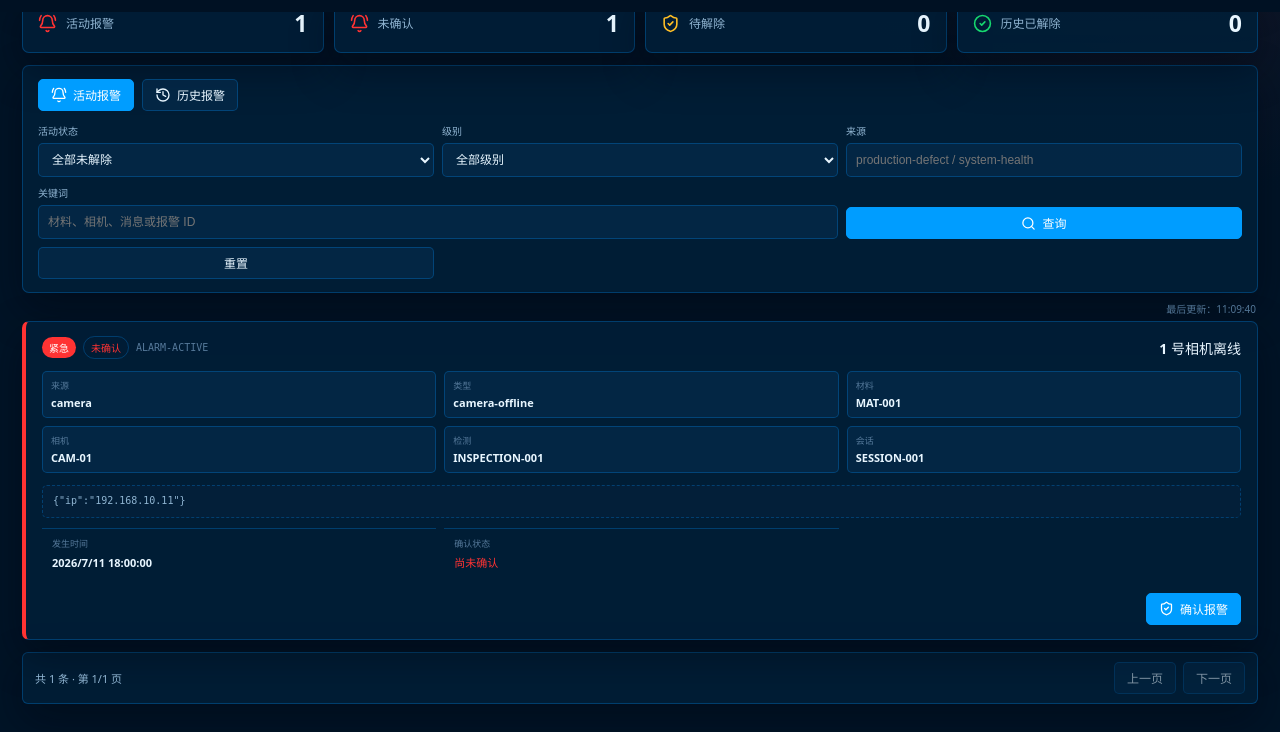
Test: AlarmCenter › keeps the action form open and displays an authorization error from the service
(page scrolled)
Expected: the text "1 号相机离线" is shown, [1159, 338, 1241, 358]
Click the button with aria-label "确认报警 ALARM-ACTIVE": click(1194, 608) [1146, 592, 1241, 624]
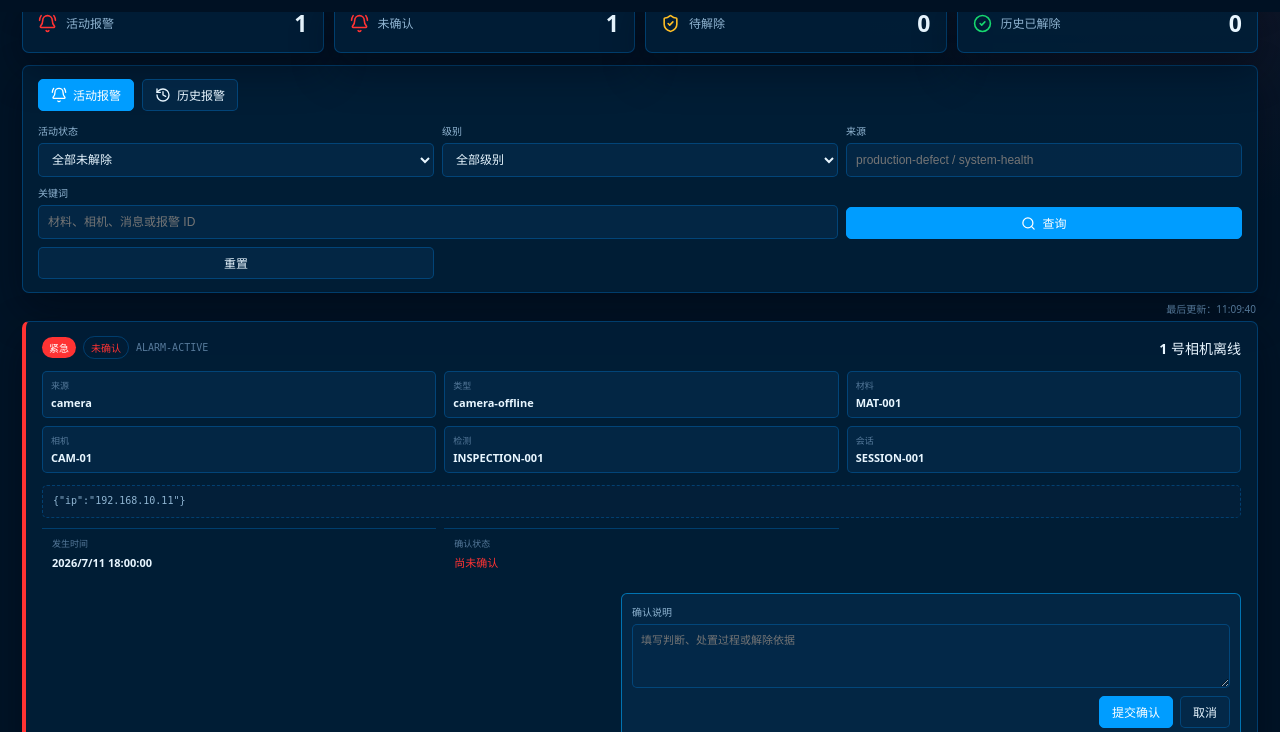
In the text box named "确认说明 ALARM-ACTIVE": (931, 656) [632, 624, 1230, 688], type "准备确认"
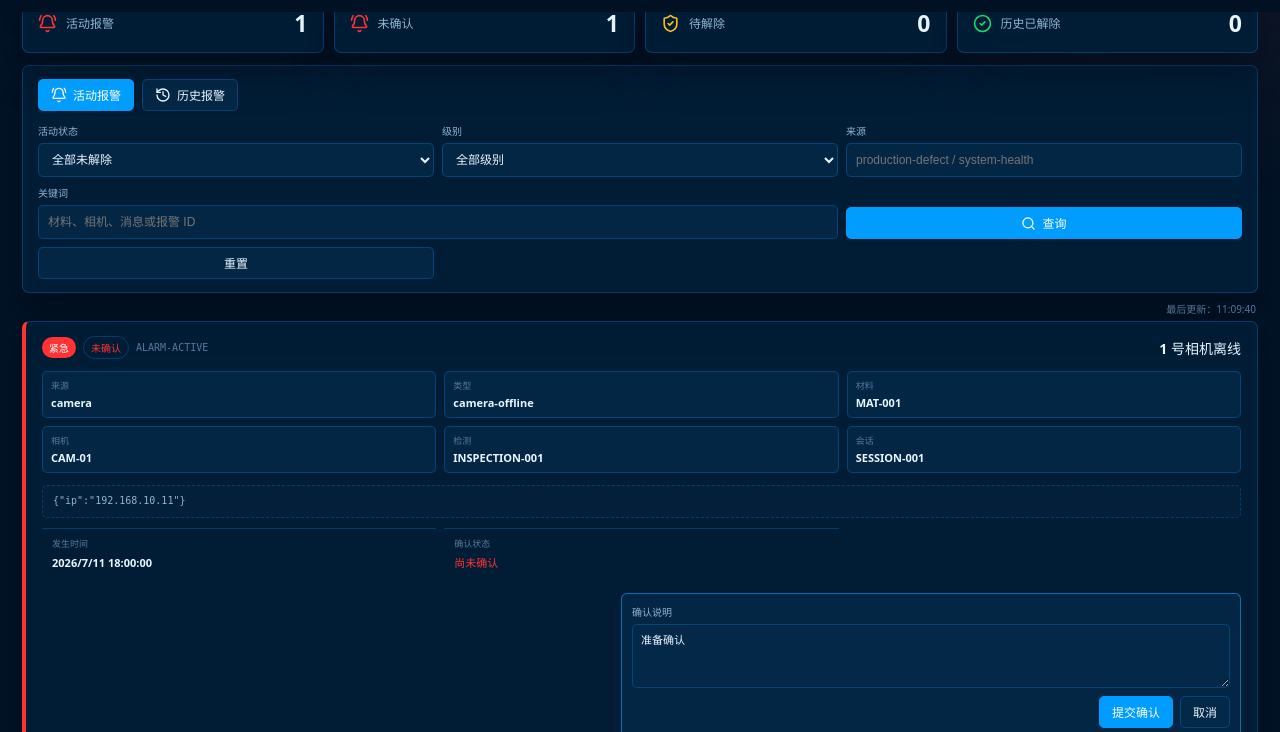
Click the button "提交确认": click(1136, 712) [1099, 696, 1173, 728]
(page scrolled)
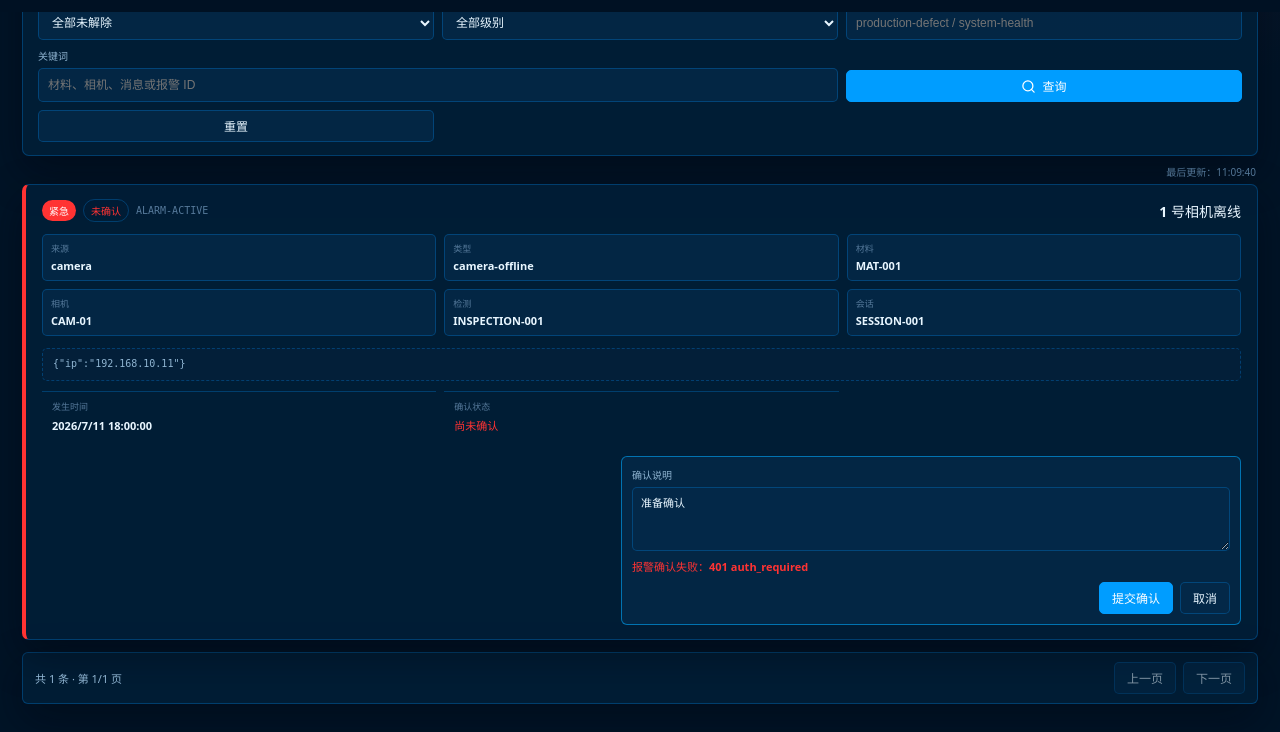
Expected: the button "提交确认" is enabled, [1099, 582, 1173, 614]
Expected: the message shows "401 auth_required", [632, 558, 808, 574]
